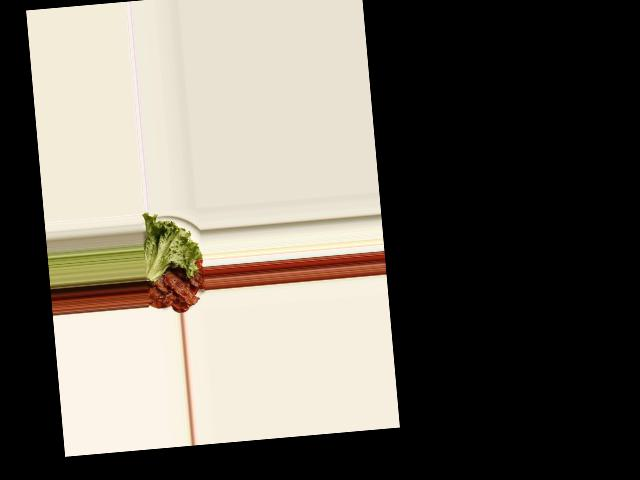lettuce: (140, 211, 202, 281)
